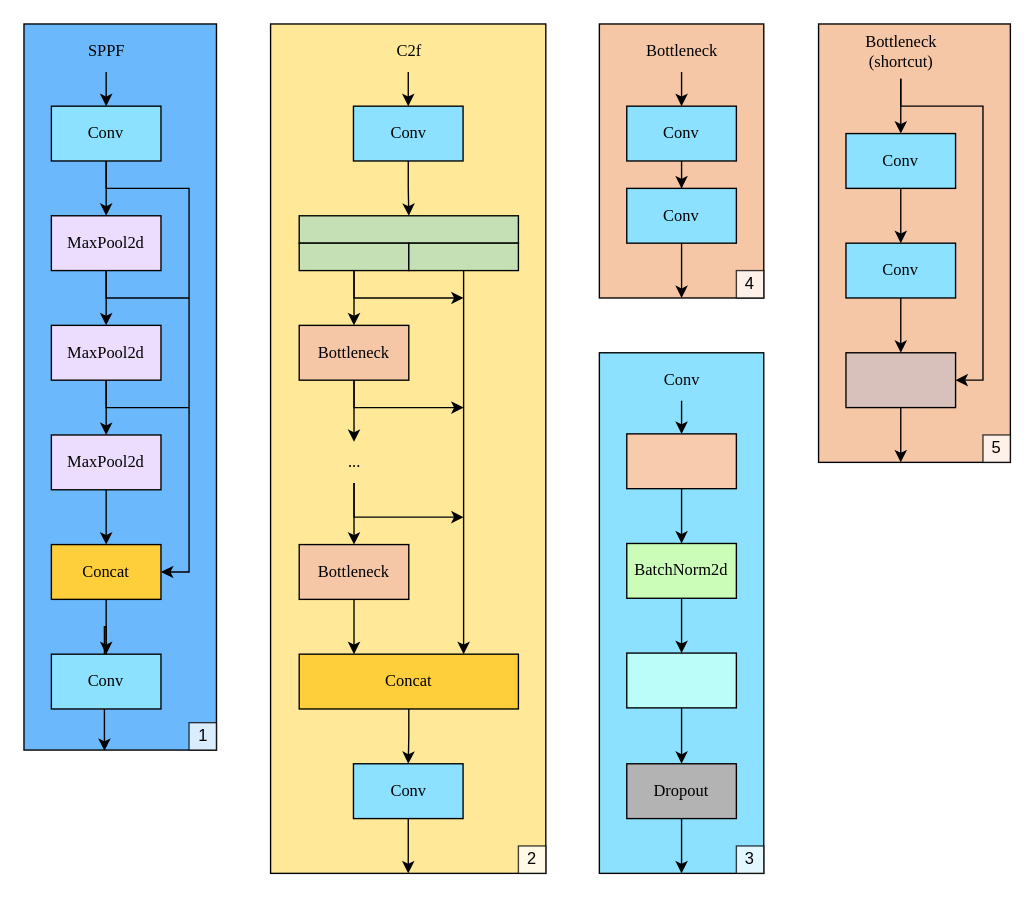
The diagram is 1034 pixels wide and 908 high, and some of its shapes have lost their labels. Here are the shapes that lost their labels. From the top down, the centre of each, then its label:
At point (408, 228): "Split".
At point (900, 379): "Add".
At point (680, 461): "Conv2d".
At point (680, 680): "SiLU".
